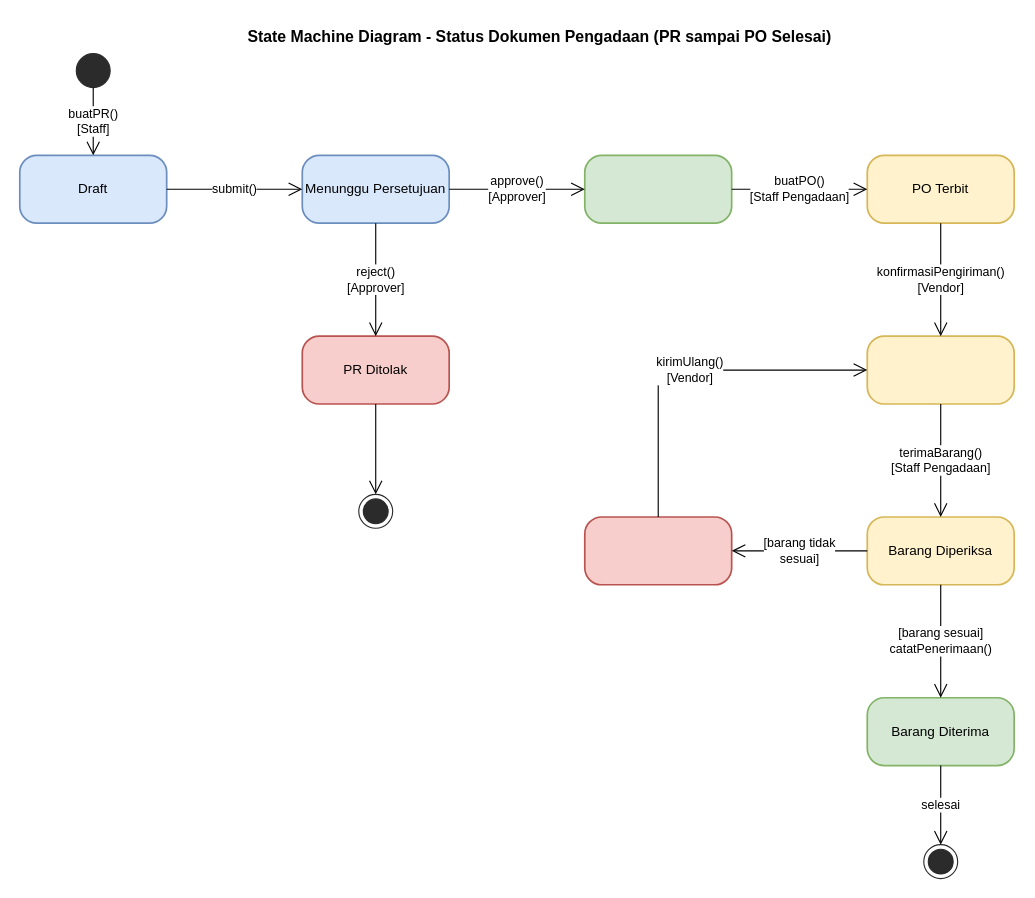
Image size: 1035x898. Some labels were removed from this diagram. Here are the shapes that lost their labels. From the top down, the centre of each, then its label:
point 657,189: PR Disetujui
point 940,369: Barang Dikirim
point 657,550: Retur / Kirim Ulang
